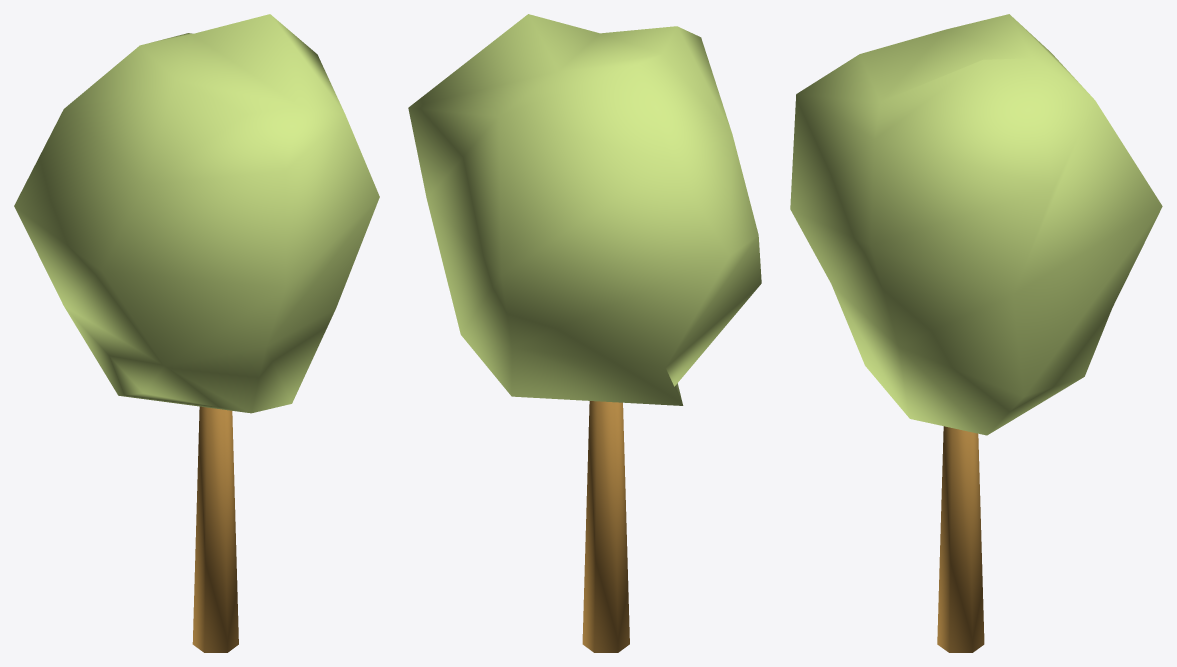
The model's file is Tree_02.glb.
The picture shows the model from 3 angles, left to right: view 1: azimuth 30°, elevation 25°; view 2: azimuth 150°, elevation 25°; view 3: azimuth 270°, elevation 25°; orthographic projection. The views are drawn at different scales.
Parts seen in each view (by area): view 1: Tree02; view 2: Tree02; view 3: Tree02.
Part boxes in pixels (<box>): Tree02: <box>14,14,379,652</box>; Tree02: <box>408,14,761,652</box>; Tree02: <box>790,14,1162,652</box>.
Size of the model in its own units: 7.09 by 13.24 by 7.24.
